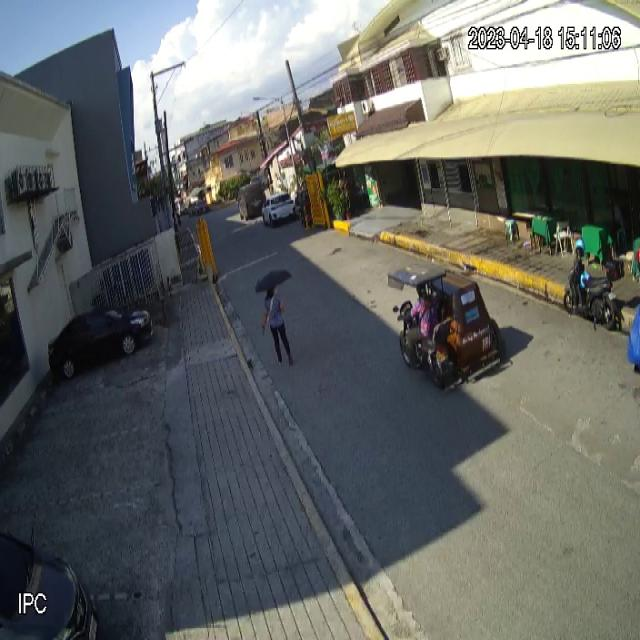Car: (46, 302, 154, 383)
Motorcycle: (561, 249, 627, 334)
Tricycle: (386, 260, 508, 390)
